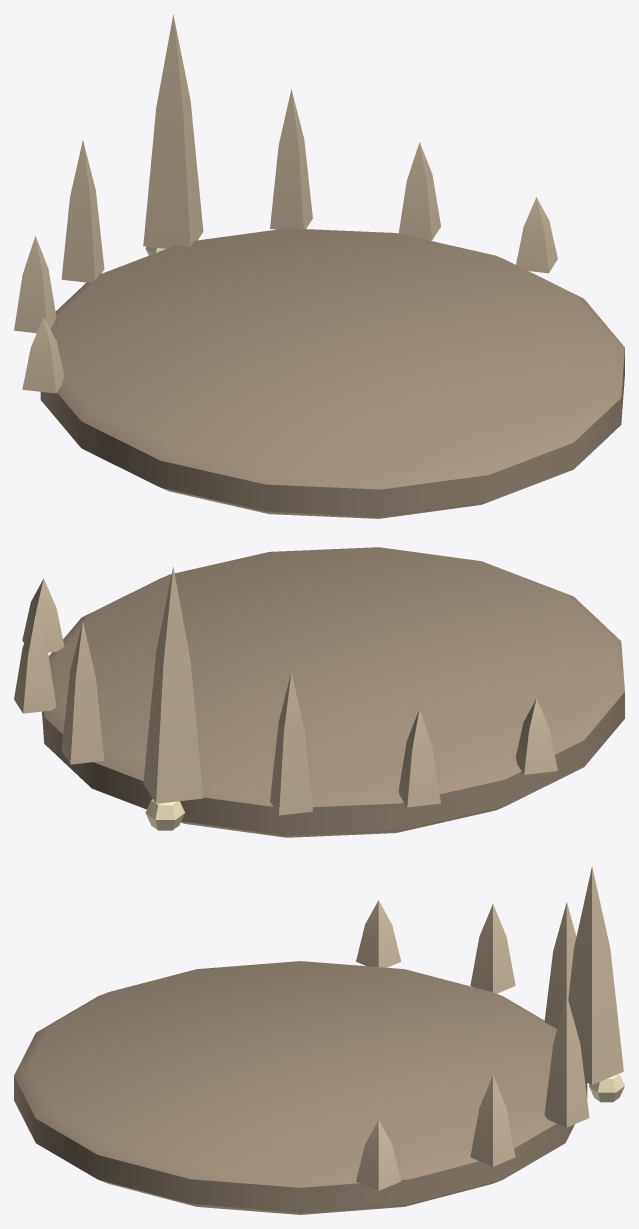
The model's file is trophy_glass_diadem.gltf.
3 renders of one model, top to bottom at view 1: azimuth 30°, elevation 25°; view 2: azimuth 150°, elevation 25°; view 3: azimuth 270°, elevation 25°, orthographic. The views are drawn at different scales.
Parts seen in each view (by area): view 1: Body; view 2: Body; view 3: Body.
Part boxes in pixels (bbox=[...]): Body: bbox=[14, 15, 624, 518]; Body: bbox=[14, 547, 624, 837]; Body: bbox=[14, 866, 624, 1214].
Size of the model in its own units: 0.2493 by 0.118 by 0.2694.
